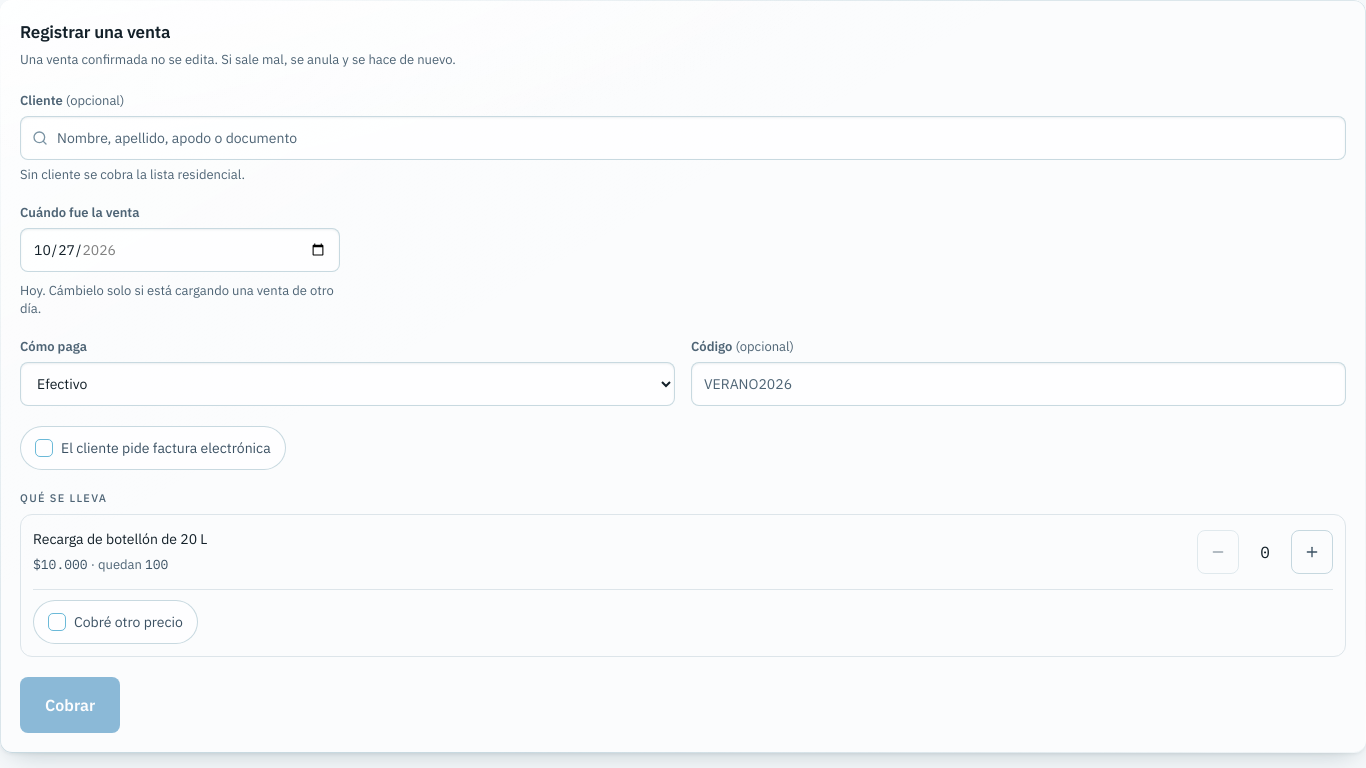
Scenario: los defaults de los dos campos de botellones siguen al carrito › al sumar la primera recarga, los dos campos pintan 1 y 1
Expected: the field labelled "Entregados" is not shown
Expected: the field labelled "Recibidos" is not shown
Click the button named "Agregar uno de Recarga" at {"x": 1312, "y": 552}, box [1291,530,1333,574]
(page scrolled)
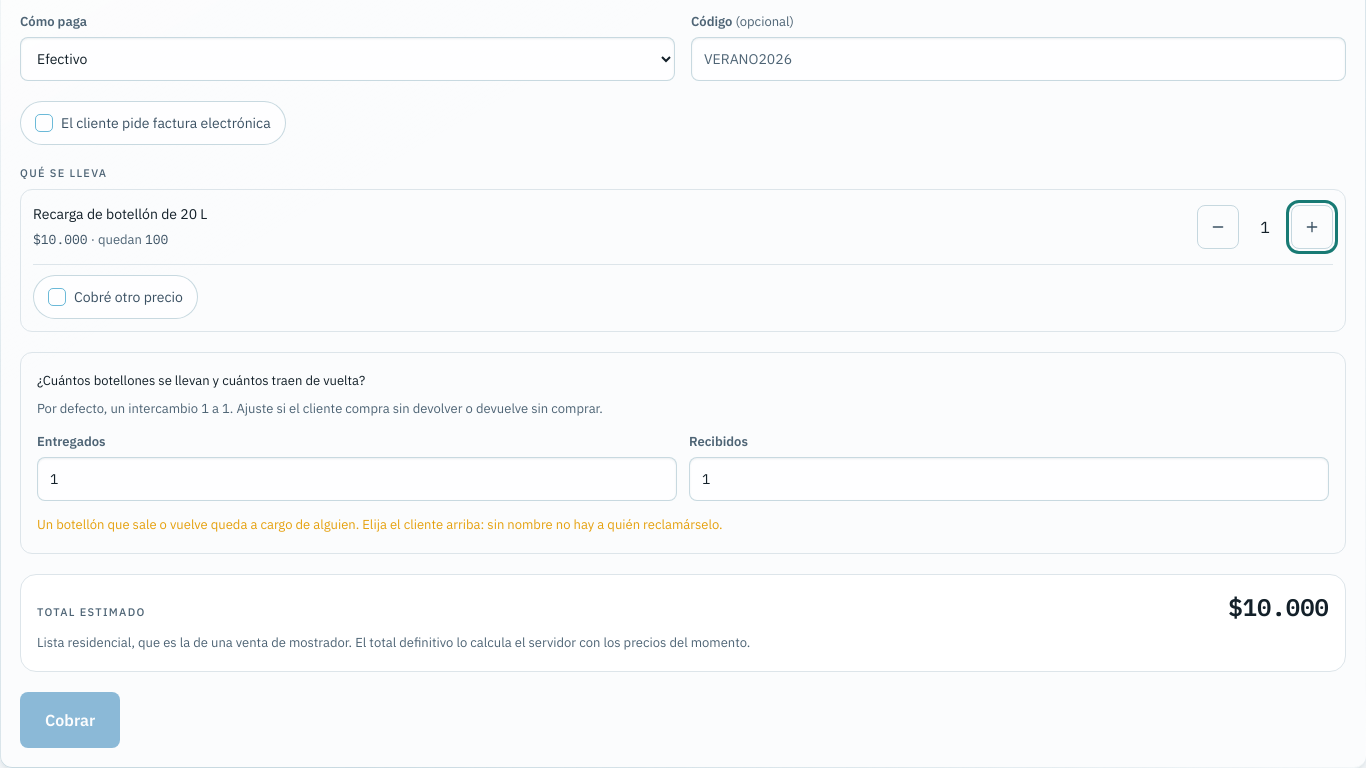
Result: the number field labelled "Entregados" holds "1" at [37,457,677,501]
Result: the number field labelled "Recibidos" holds "1" at [689,457,1329,501]
